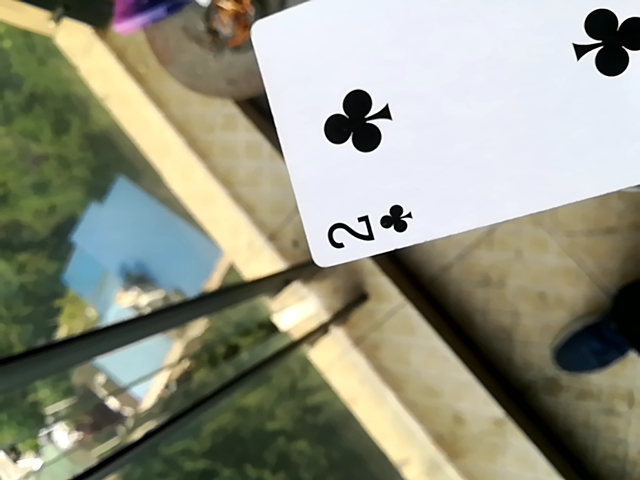mh 2: (249, 2, 636, 275)
